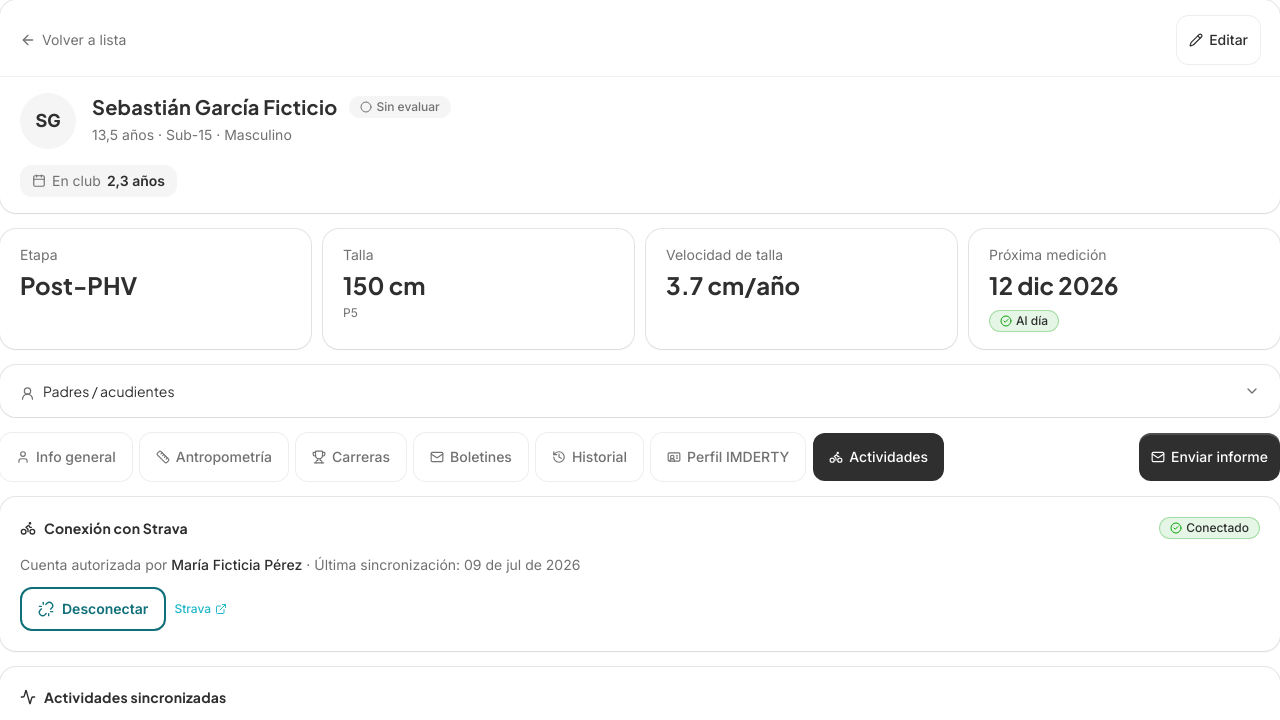
Test: AthleteDetailPage — tarjeta de conexión Strava › flujo de desconexión › cerrar el diálogo con Cancelar no desconecta la cuenta
This screenshot has width=1280, height=720.
Click the button "Desconectar" at (93, 609), box [20,587,166,631]
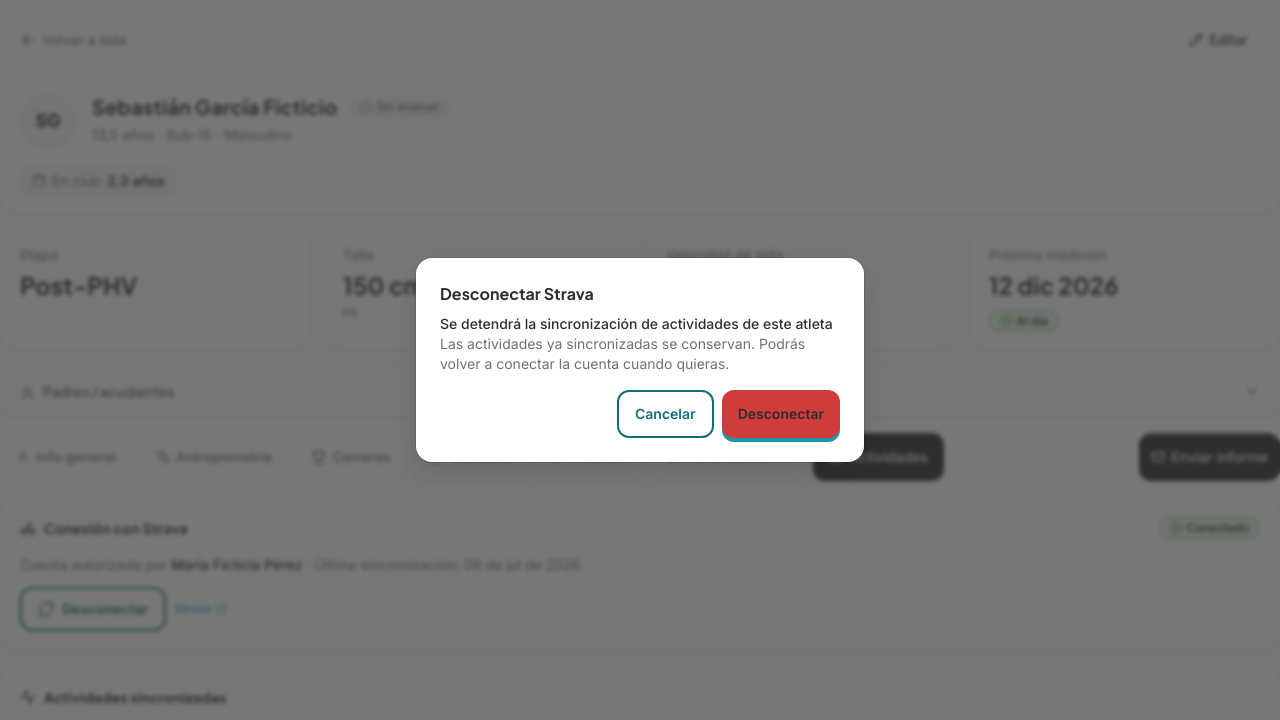
Click the button "Cancelar" at (665, 414), box [617,390,714,438]
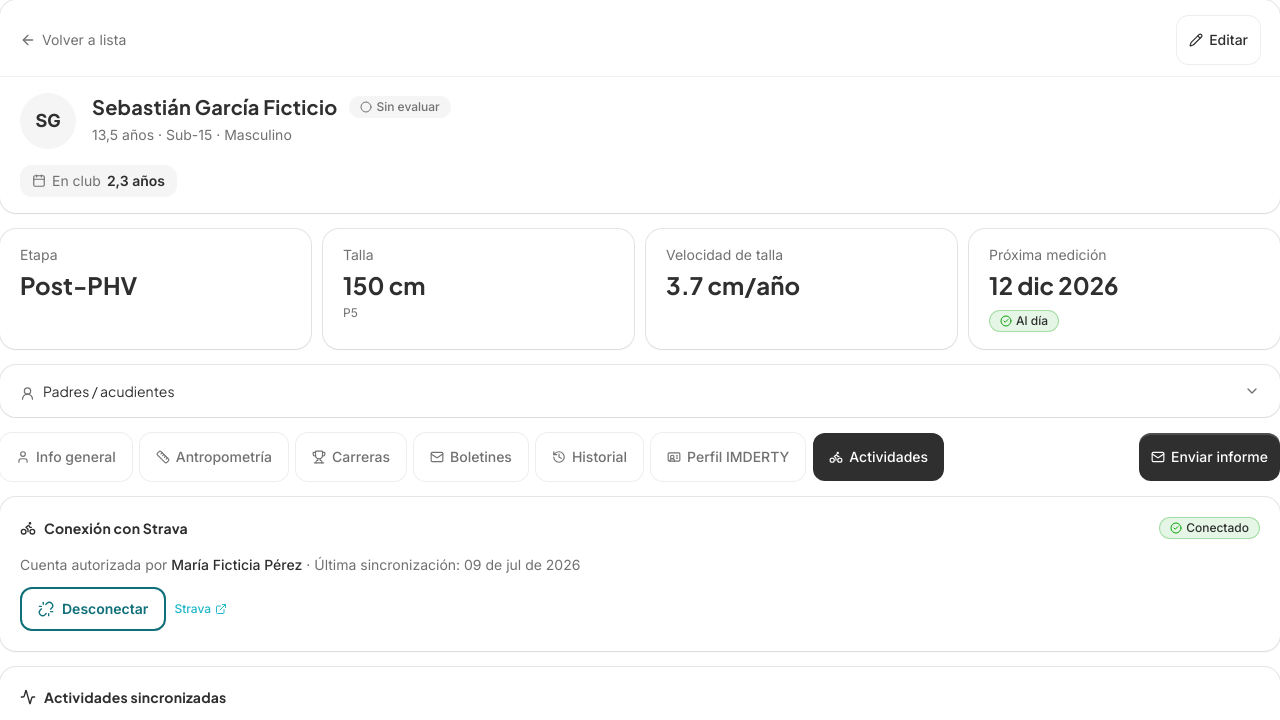
Check: the text "Conectado" is shown, box [1159,517,1260,539]
Check: the dialog is gone
